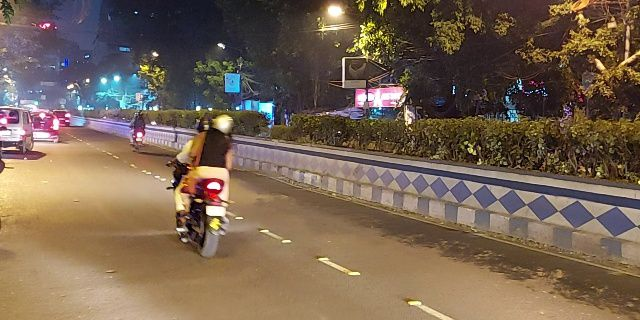Motorbike: (175, 109, 236, 256), (126, 126, 151, 153)
